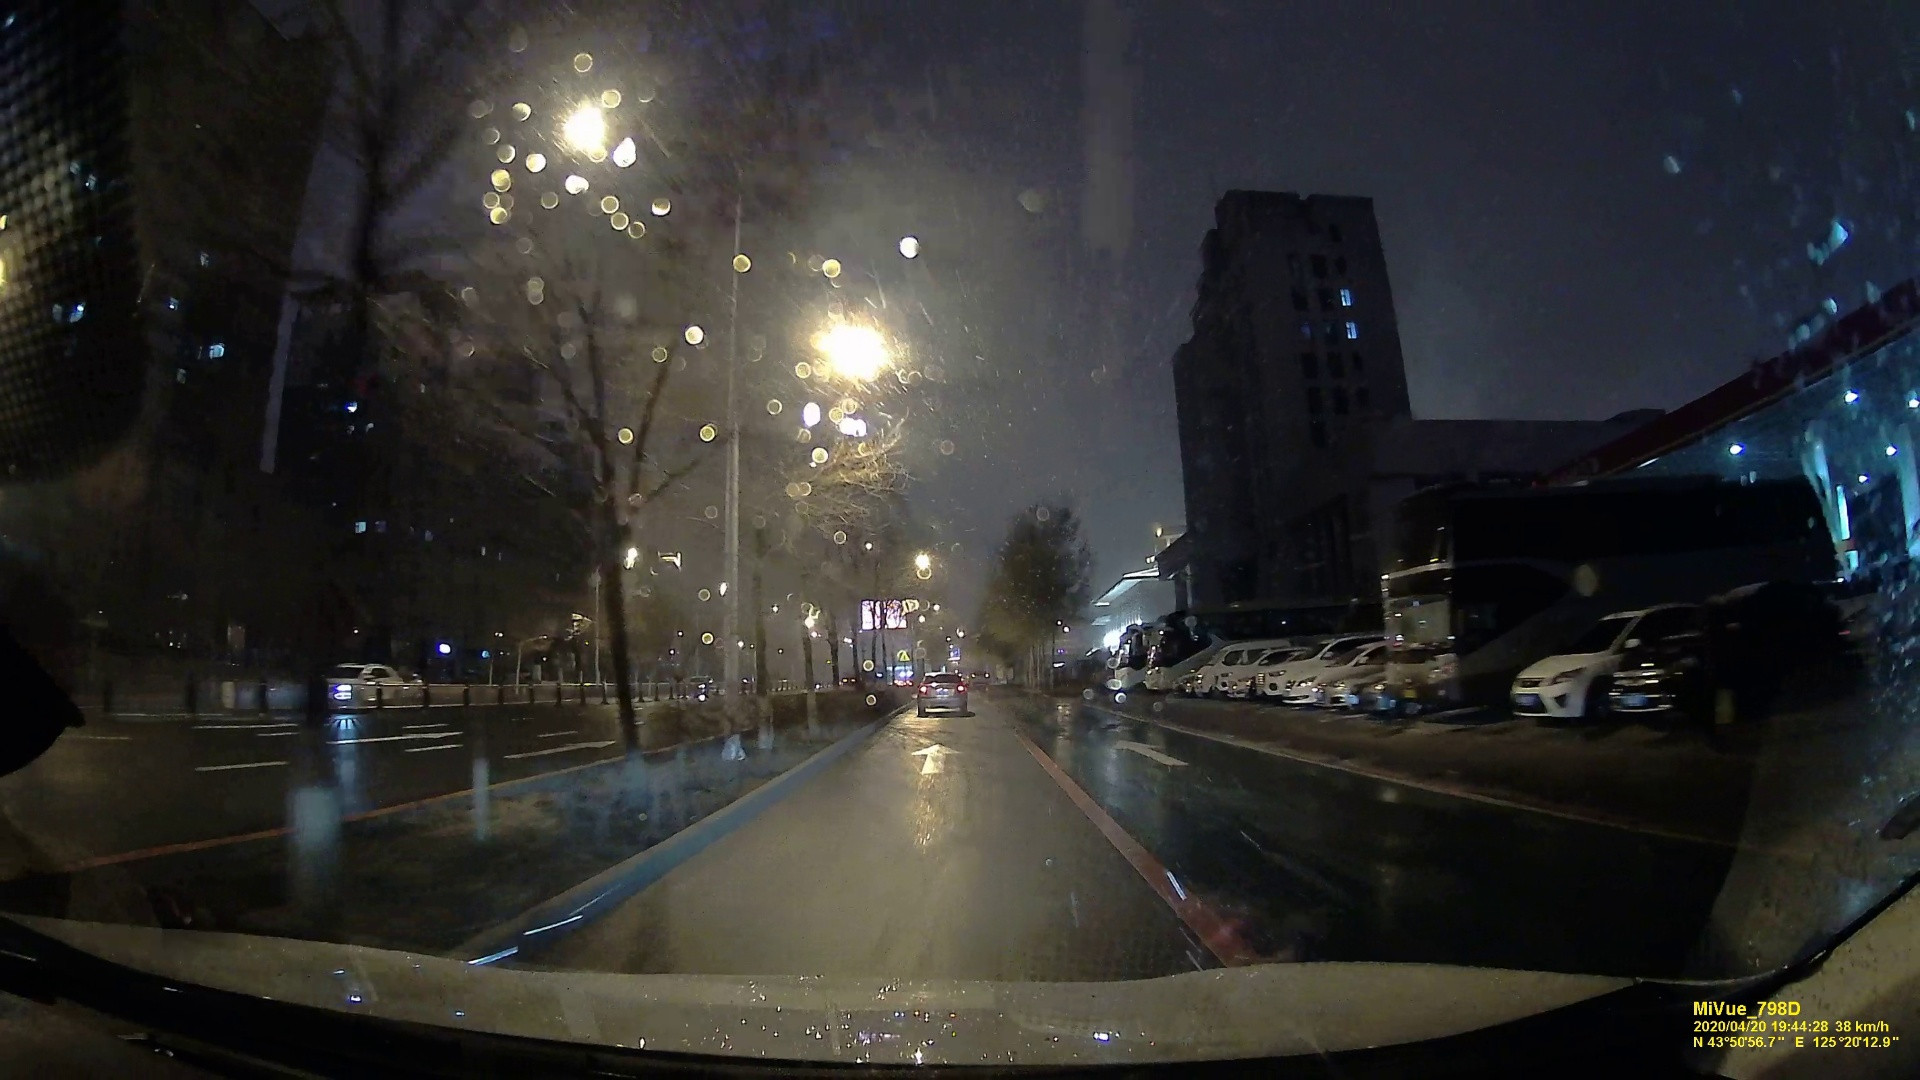bus: (1375, 473, 1542, 717), (1146, 613, 1203, 690), (1109, 622, 1145, 691)
minibus: (1196, 645, 1244, 694)
vehicle: (1614, 608, 1826, 729), (1511, 622, 1614, 721), (298, 661, 407, 709), (916, 671, 967, 715)
